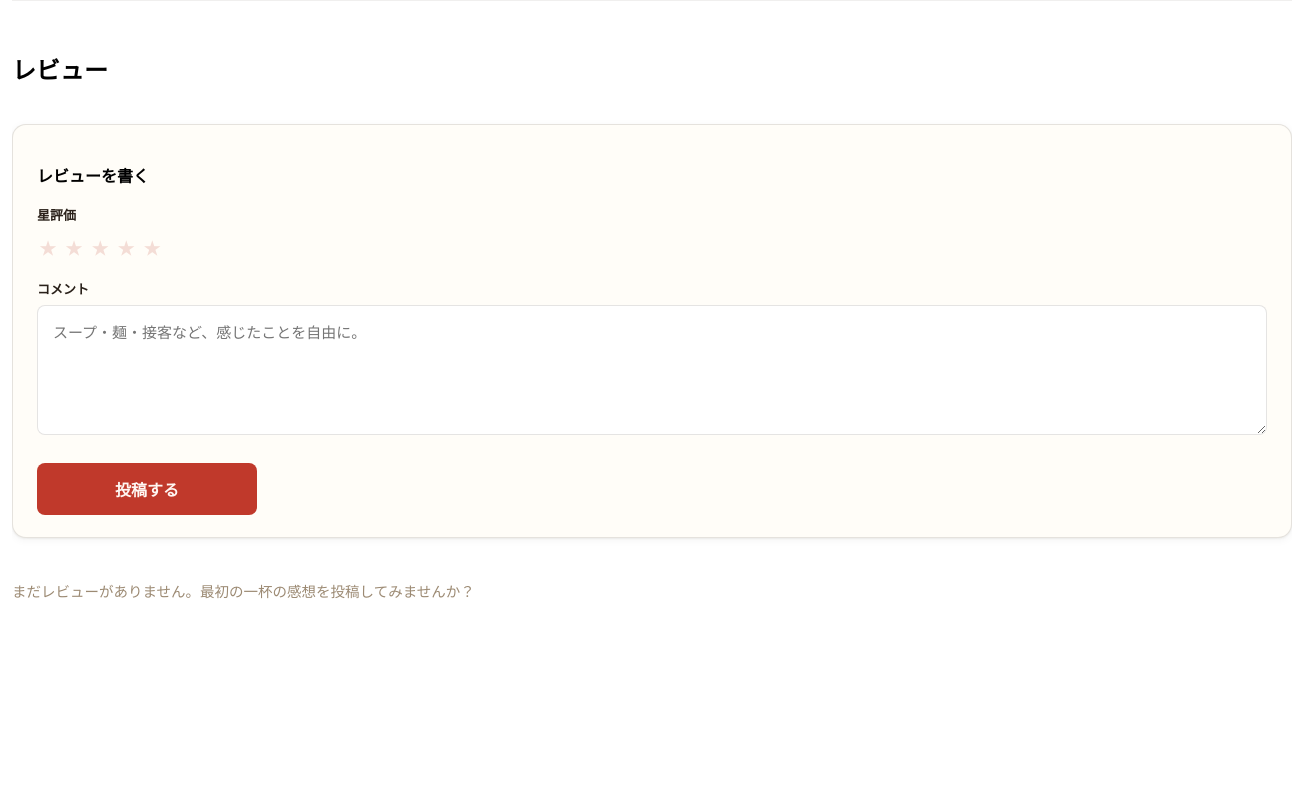
Test: ReviewSection › ReviewForm バリデーション › API エラー時はエラーメッセージを表示する
Click the radio button named "星4つ" at (126, 246), box [115,231,137,261]
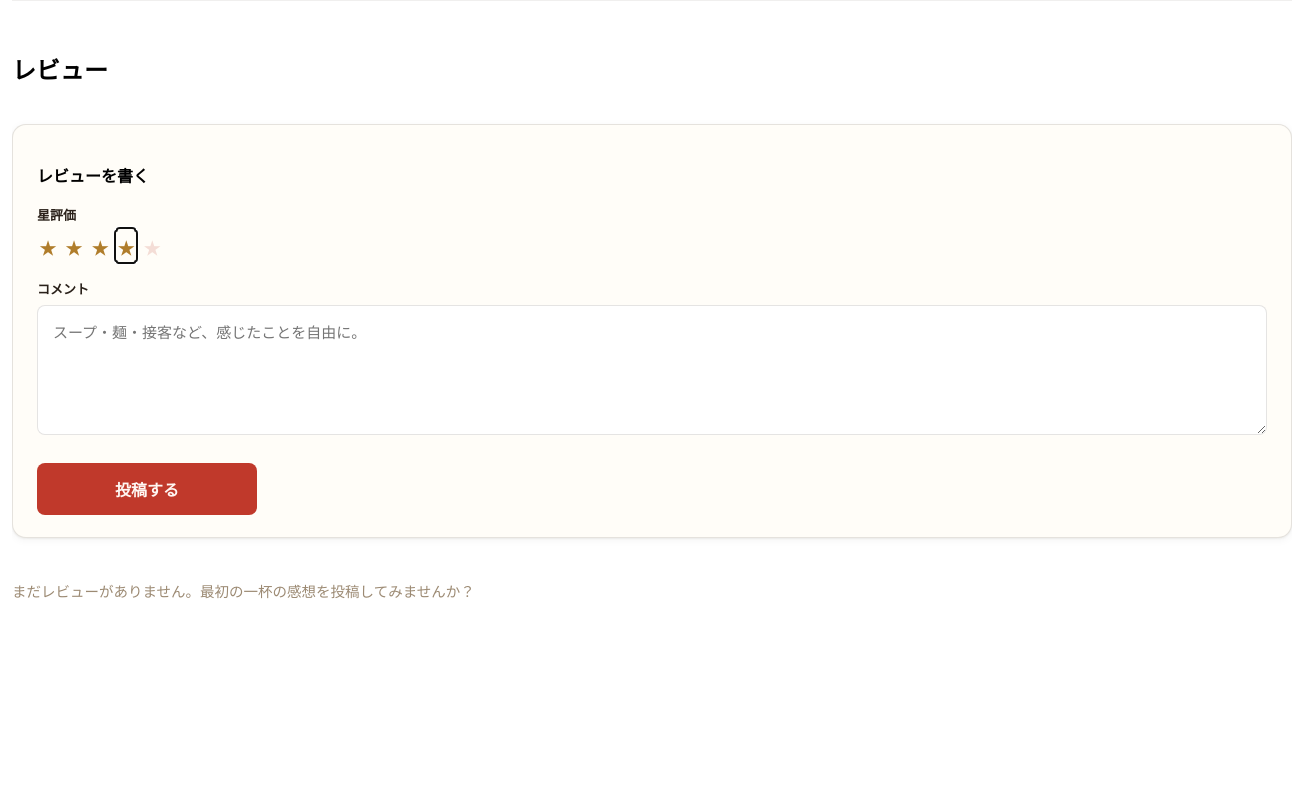
Type "コメント" into the text box labelled "コメント" at (652, 370), box [37,305,1267,435]
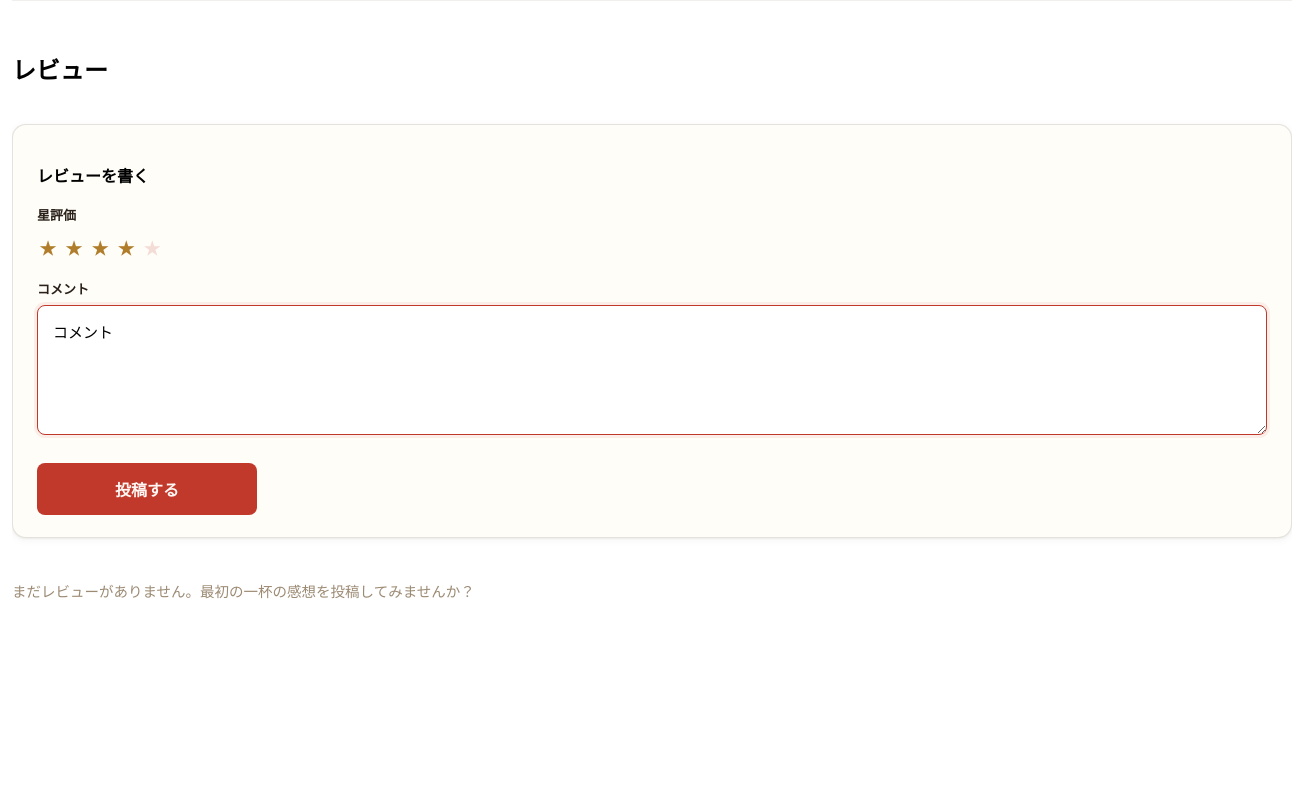
Click the button "投稿する" at (147, 489), box [37,463,257,515]
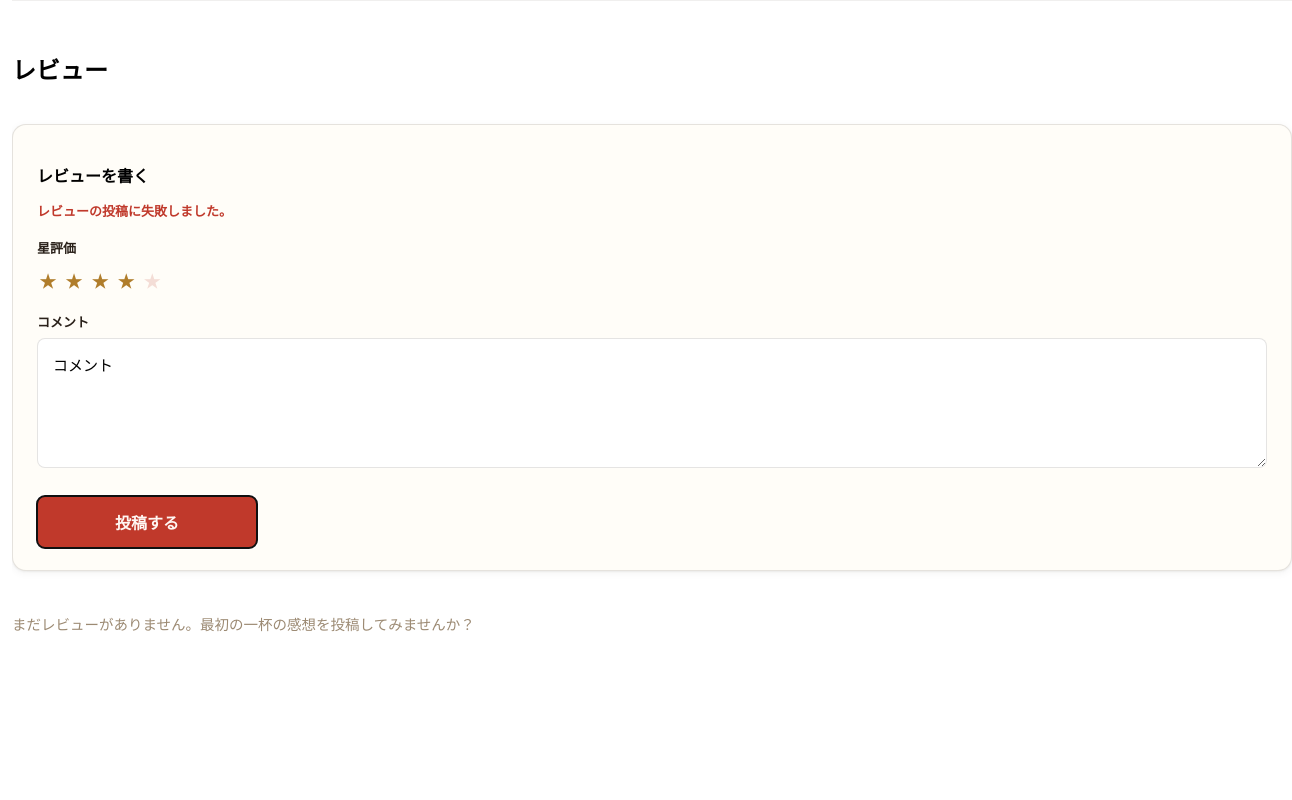
Expected: the text "レビューの投稿に失敗しました。" is shown, [37,204,232,219]
